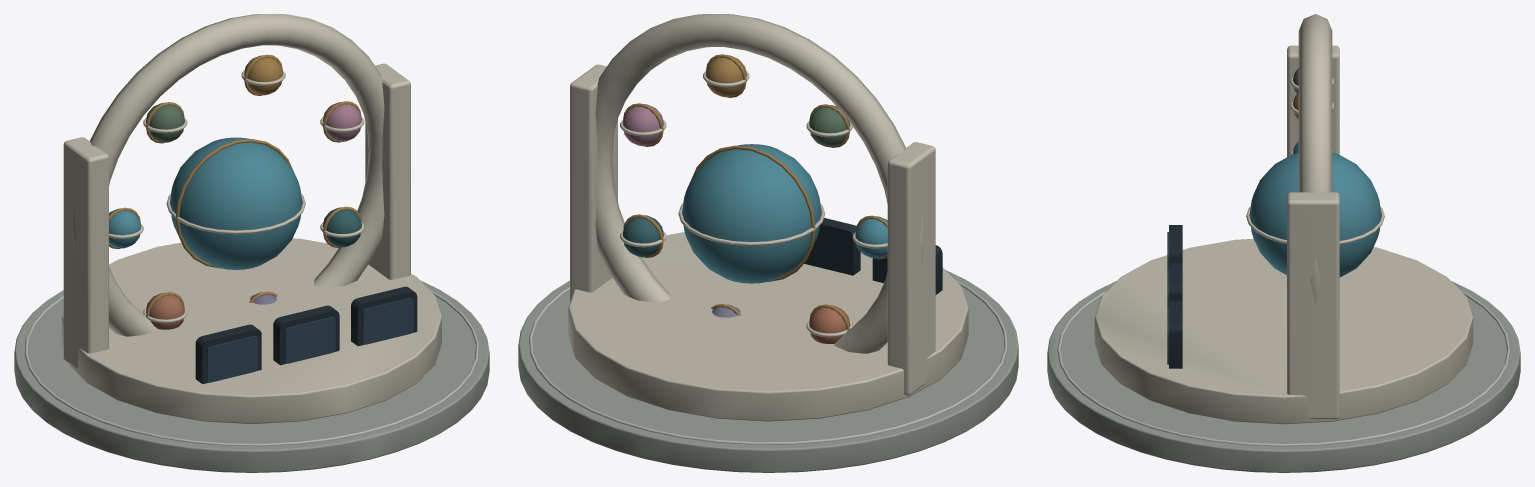
Rendered from idea-f8e66468.glb.
The picture shows the model from 3 angles, left to right: view 1: azimuth 30°, elevation 25°; view 2: azimuth 150°, elevation 25°; view 3: azimuth 270°, elevation 25°; orthographic projection. The views are drawn at different scales.
Parts seen in each view (by area): view 1: Religion Earths; view 2: Religion Earths; view 3: Religion Earths.
Part boxes in pixels (x1=…): Religion Earths: x1=14, y1=14, x2=489, y2=472; Religion Earths: x1=518, y1=14, x2=1018, y2=472; Religion Earths: x1=1047, y1=14, x2=1520, y2=472.
Size of the model in its own units: 4.5 by 3.59 by 4.5.
